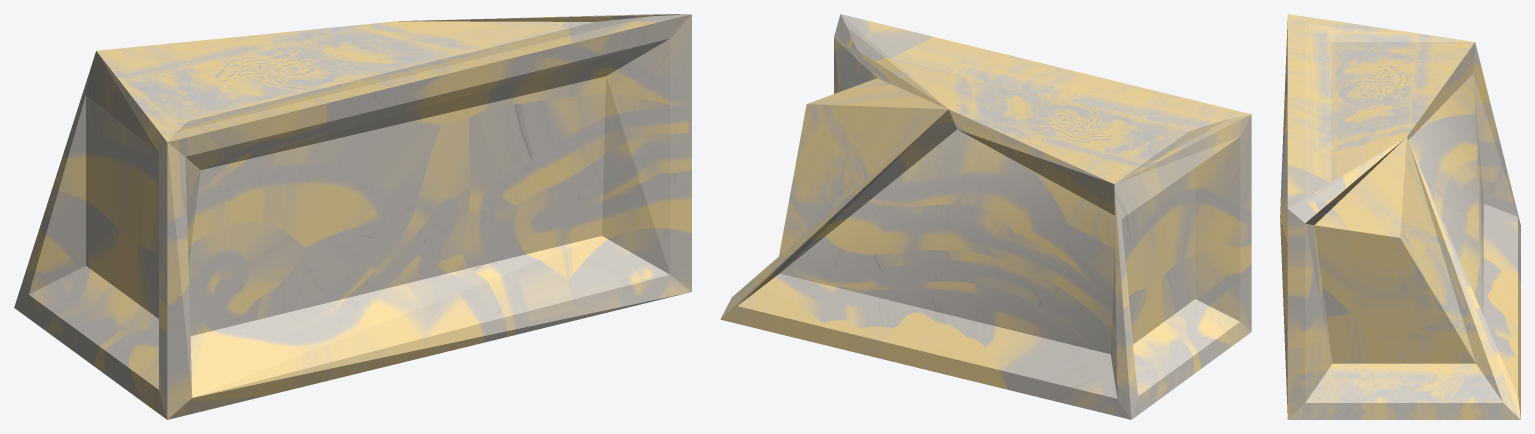
File: GoldBrickDamage2.fbx
3 views of the same model, side by side, from view 1: azimuth 30°, elevation 25°; view 2: azimuth 150°, elevation 25°; view 3: azimuth 270°, elevation 25° (orthographic). The views are drawn at different scales.
Visible parts, largest first — view 1: Box001; view 2: Box001; view 3: Box001.
Part boxes in pixels (x1=…): Box001: x1=14, y1=14, x2=691, y2=419; Box001: x1=720, y1=14, x2=1251, y2=419; Box001: x1=1280, y1=14, x2=1520, y2=419.
Bounding box in the file's own units: 202 × 106 × 102.
